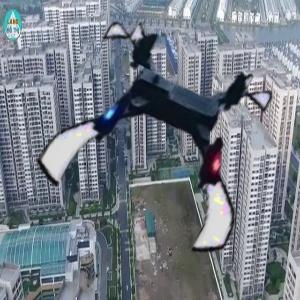drone: (59, 34, 272, 247)
